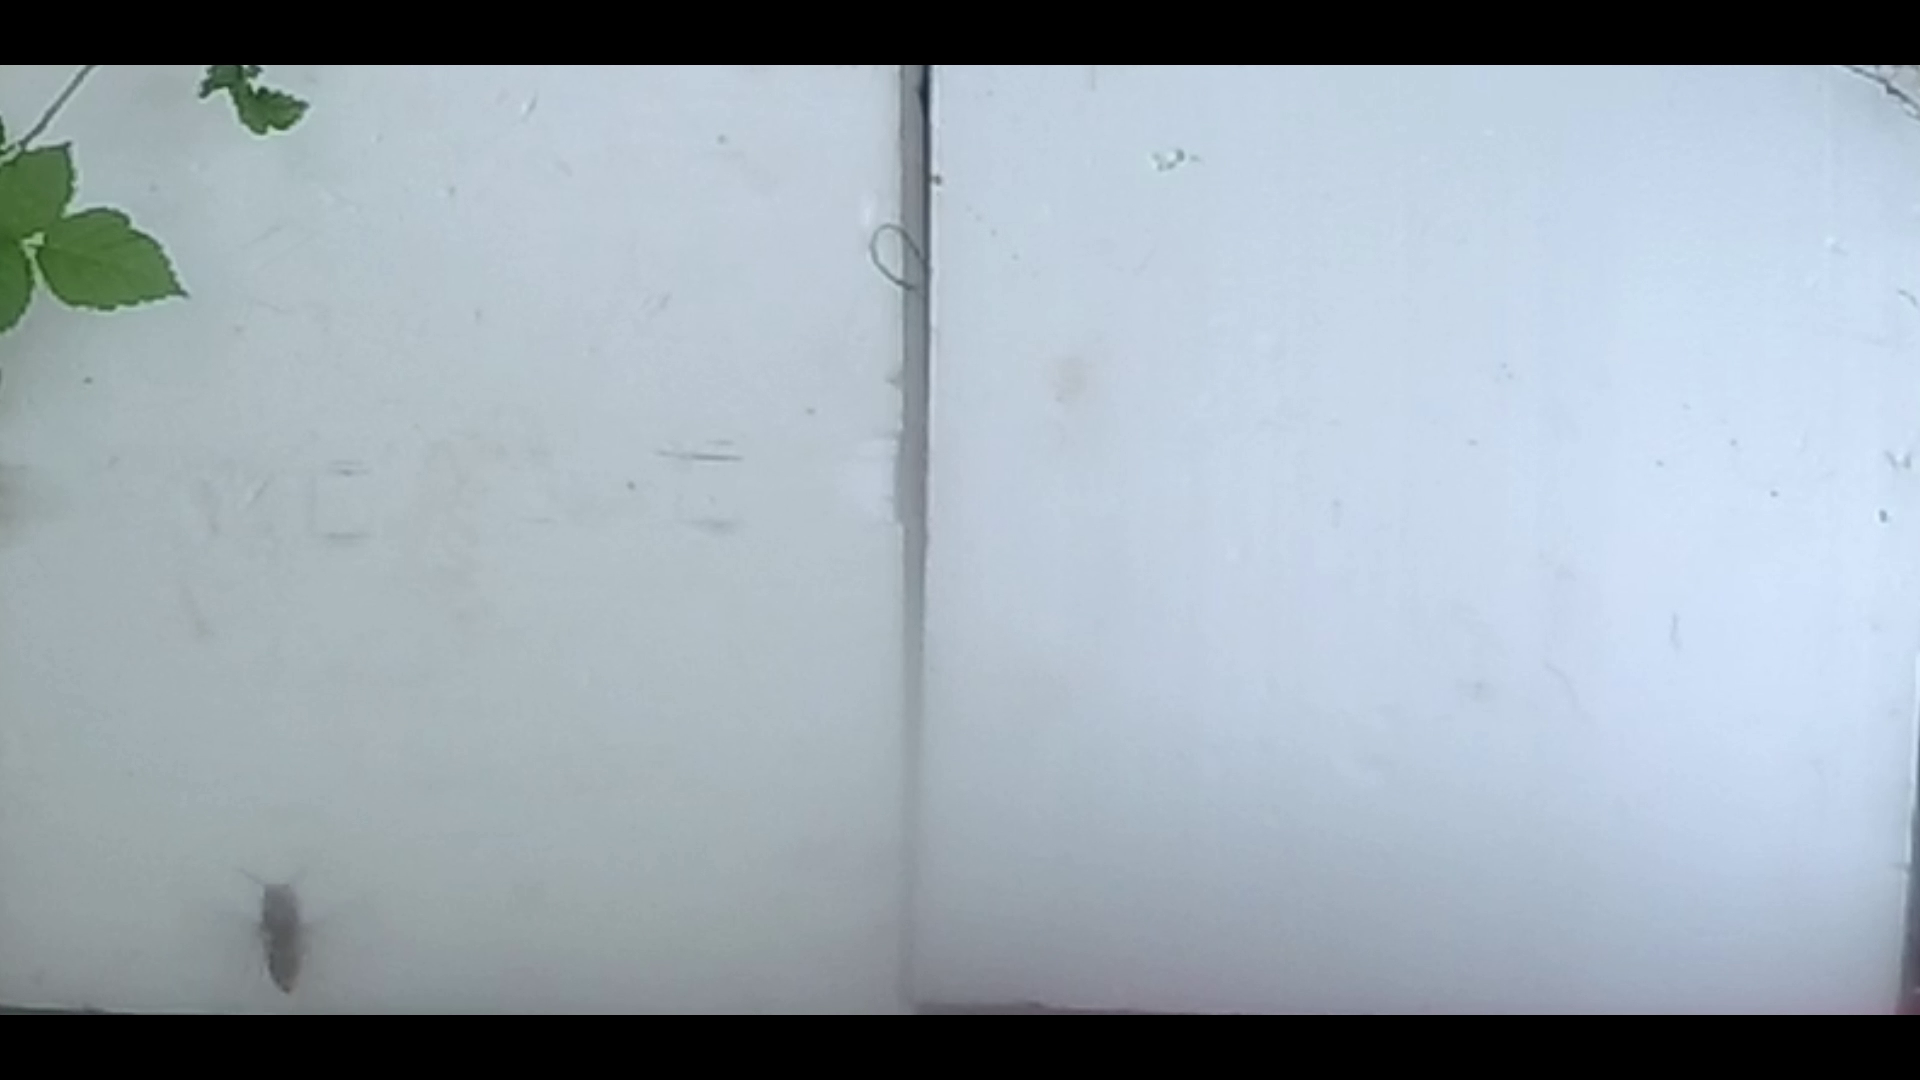Asian_hornets: (206, 862, 353, 1000)
